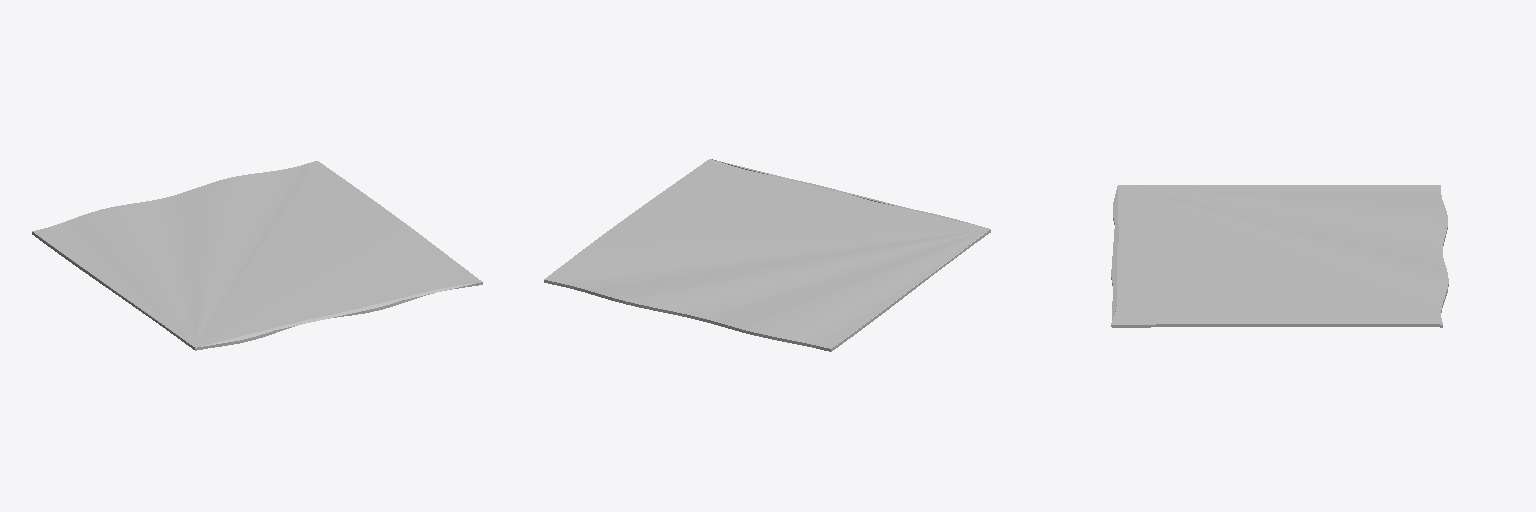
Rendered from zhuobu.obj.
The picture shows the model from 3 angles: view 1: azimuth 30°, elevation 25°; view 2: azimuth 150°, elevation 25°; view 3: azimuth 270°, elevation 25°; orthographic projection.
Parts seen in each view (by area): view 1: 平面.1; view 2: 平面.1; view 3: 平面.1.
Part boxes in pixels (x1,y1,x2,y2): 平面.1: (32, 161, 482, 350); 平面.1: (544, 159, 990, 351); 平面.1: (1111, 185, 1448, 327).
Bounding box in the file's own units: 100 × 1.54 × 102.